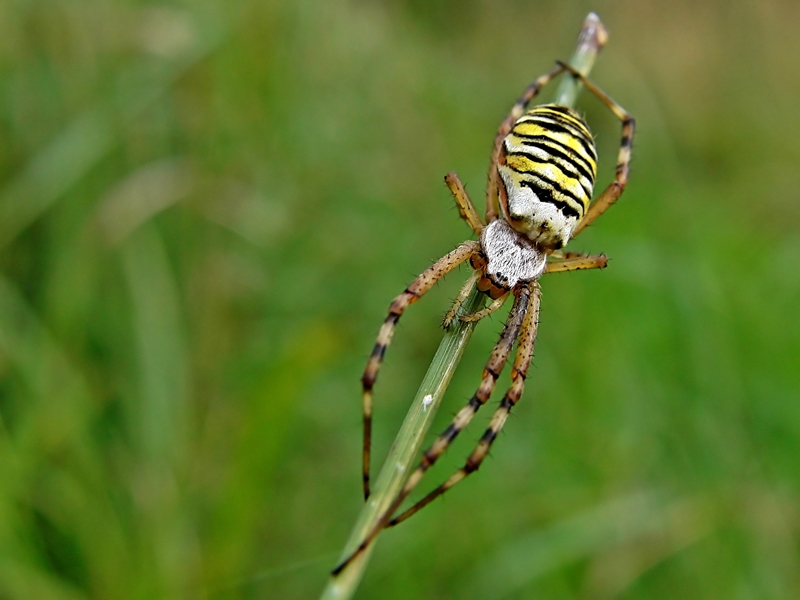spider: (279, 36, 672, 582)
